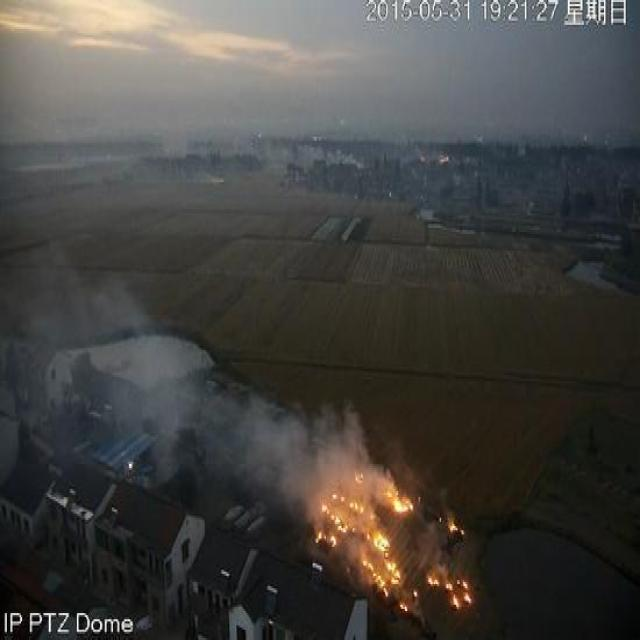fire: (314, 450, 417, 610), (425, 562, 473, 607), (448, 520, 463, 546)
smoke: (240, 393, 316, 508)
